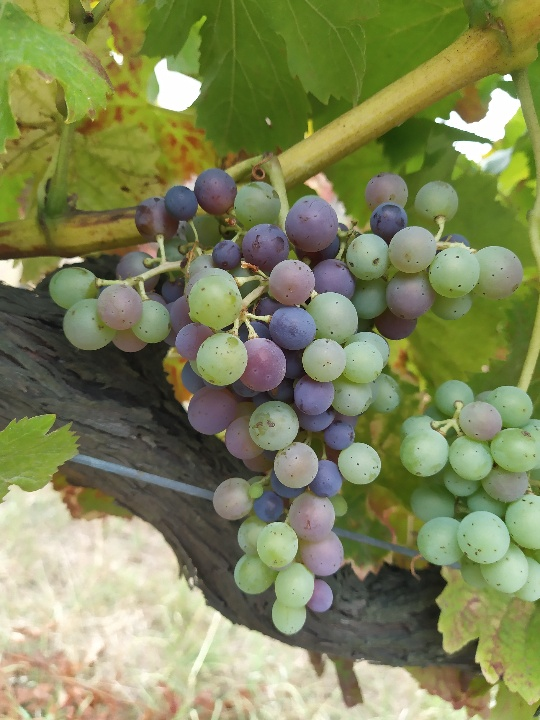grape: (45, 166, 528, 638)
